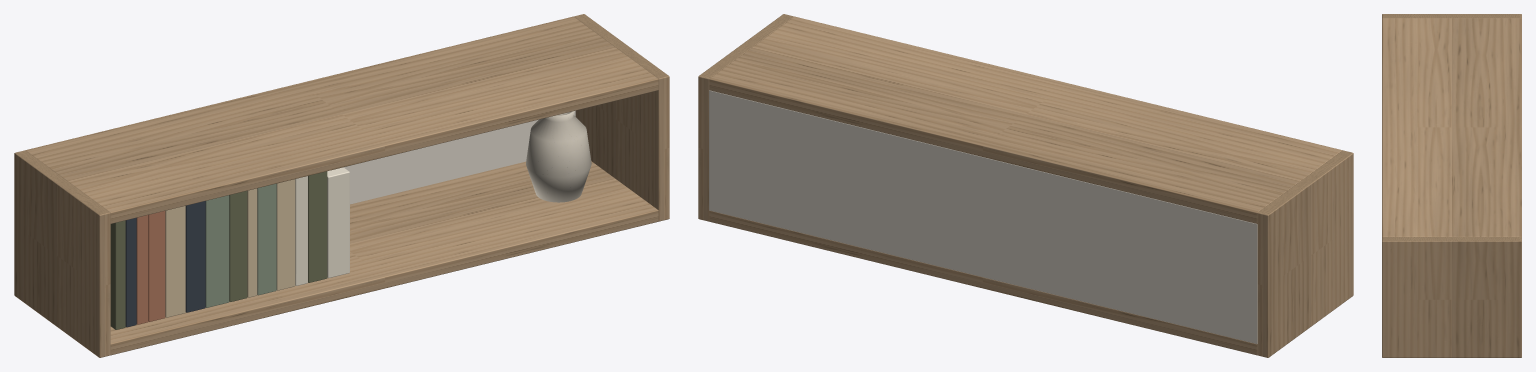
3 renders of one model, left to right at view 1: azimuth 30°, elevation 25°; view 2: azimuth 150°, elevation 25°; view 3: azimuth 270°, elevation 25°, orthographic. The views are drawn at different scales.
Parts seen in each view (by area): view 1: top, bottom, side_left, side_right, back_panel, vase, book_3_6, book_3_13, book_3_4, book_3_5, book_3_12, book_3_9 (+8 smaller); view 2: back_panel, top, side_left, bottom, side_right; view 3: top, side_right, side_left.
Boxes of the visible parts, x1,y1,x2,y2 form: top: (25, 16, 658, 223); bottom: (110, 161, 658, 355); side_left: (14, 150, 110, 357); side_right: (574, 14, 669, 221); back_panel: (344, 110, 575, 204); vase: (526, 111, 591, 202); book_3_6: (205, 195, 229, 307); book_3_13: (327, 167, 349, 278); book_3_4: (165, 206, 185, 317); book_3_5: (185, 201, 205, 312); book_3_12: (308, 171, 327, 282); book_3_9: (257, 183, 276, 295); back_panel: (709, 90, 1257, 343); top: (709, 16, 1342, 223); side_left: (1257, 150, 1353, 357); bottom: (709, 210, 1257, 355); side_right: (698, 14, 793, 221); top: (1382, 18, 1521, 236); side_right: (1382, 237, 1521, 357); side_left: (1382, 14, 1521, 18).
Bounding box in the file's own units: 1 × 0.24 × 0.26.
Materials: 10 (3 with a texture image).
